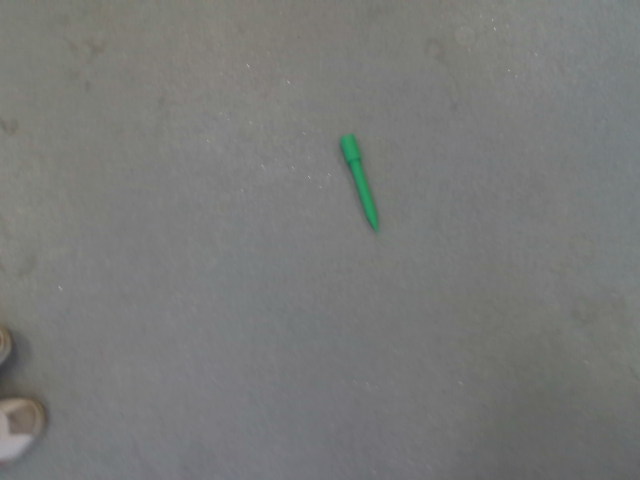Probe: (335, 126, 384, 240)
